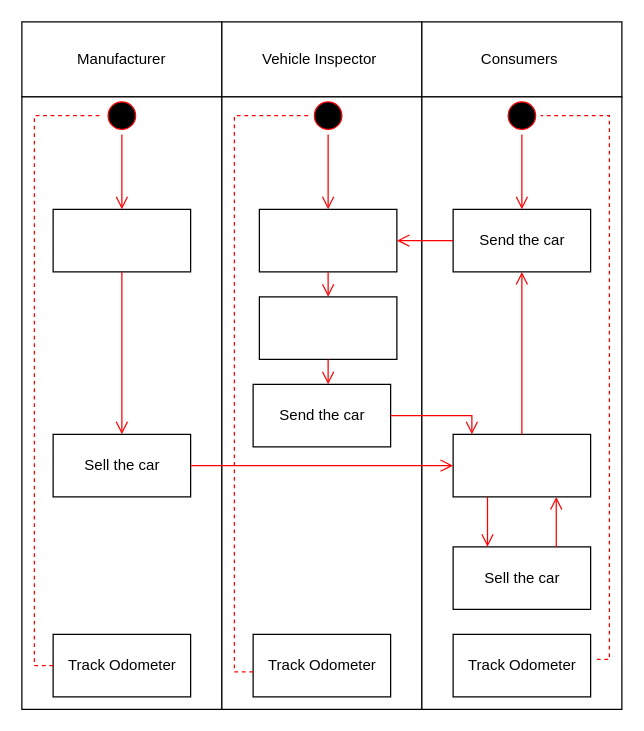
The diagram is 644 pixels wide and 731 high, and some of its shapes have lost their labels. The centre of each missing label's shape, as x and y in pixels:
Car is Manufactured: point 121,240
Inspect vehicle: point 327,327
Receive a car: point 521,465
Receive a vehicle: point 327,240
